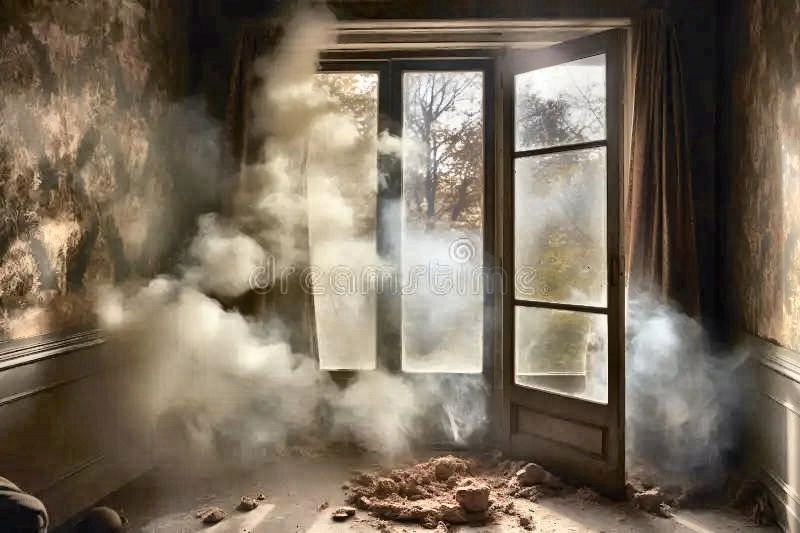smoke: (80, 145, 506, 462)
